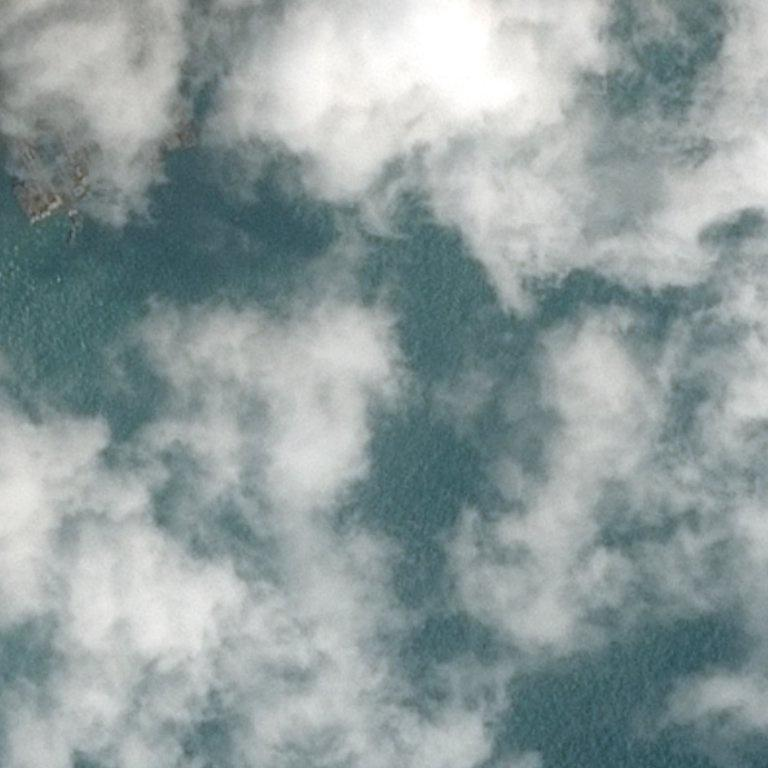ship: (8, 179, 45, 226), (0, 153, 16, 156)
